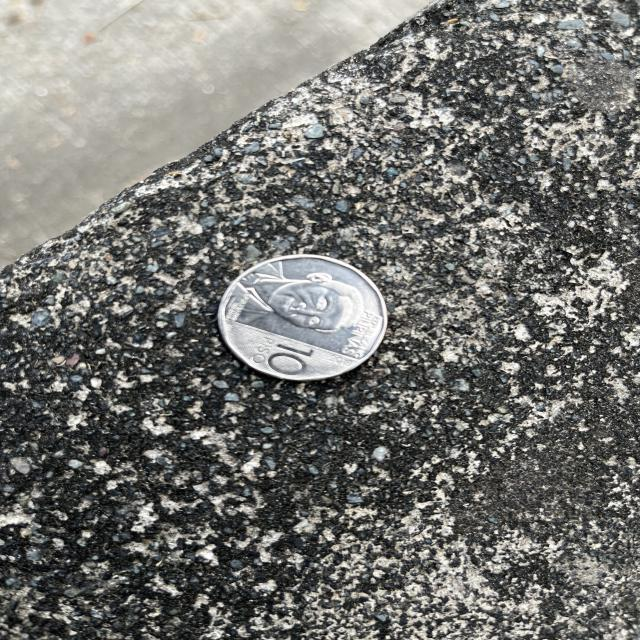10_New_Front: (247, 336, 323, 375)
